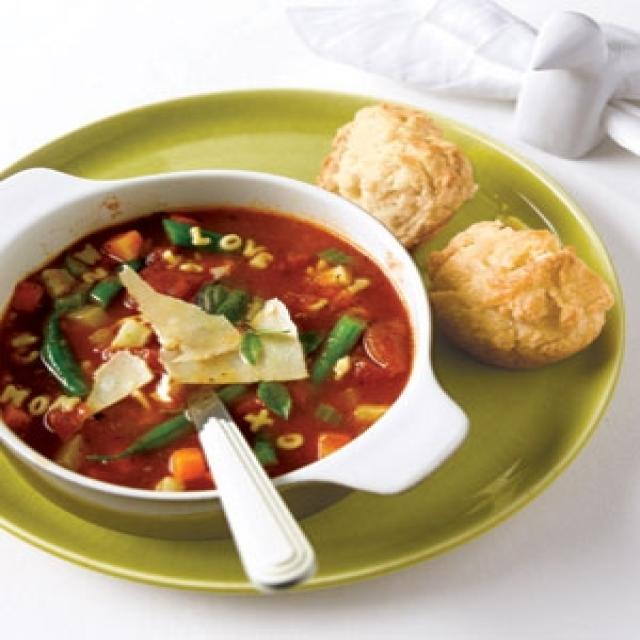汤锅炖物: (0, 31, 614, 618)
